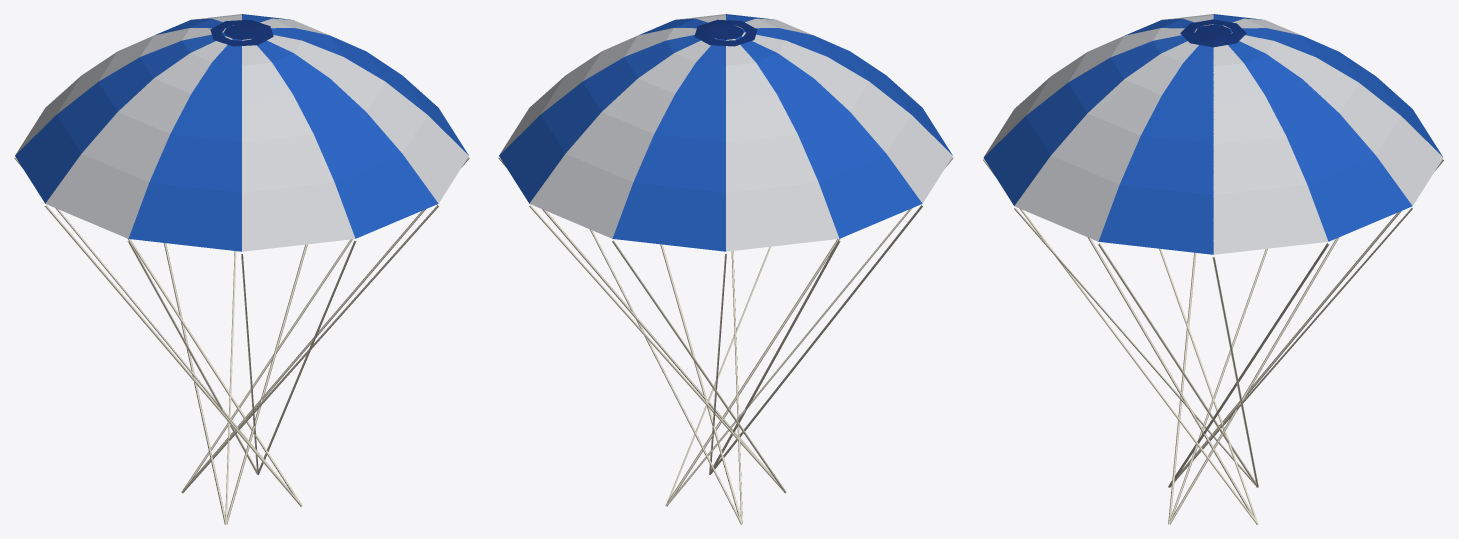
The model's file is SupplyChute.glb.
The picture shows the model from 3 angles, left to right: view 1: azimuth 30°, elevation 25°; view 2: azimuth 150°, elevation 25°; view 3: azimuth 270°, elevation 25°; orthographic projection.
Parts seen in each view (by area): view 1: SupplyChute; view 2: SupplyChute; view 3: SupplyChute.
Part boxes in pixels (left/top/right/bottom): SupplyChute: left=14, top=14, right=469, bottom=524; SupplyChute: left=498, top=14, right=953, bottom=524; SupplyChute: left=983, top=14, right=1443, bottom=524.
Bounding box in the file's own units: 5.22 × 5.92 × 5.22.
